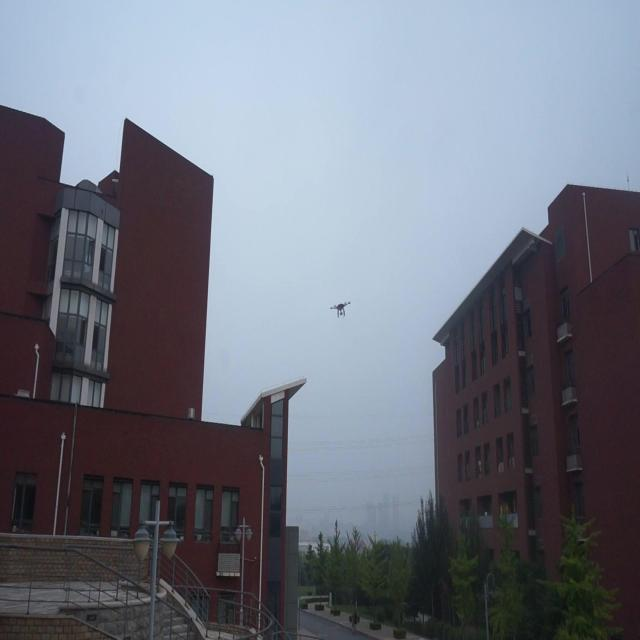drone: (327, 297, 355, 320)
